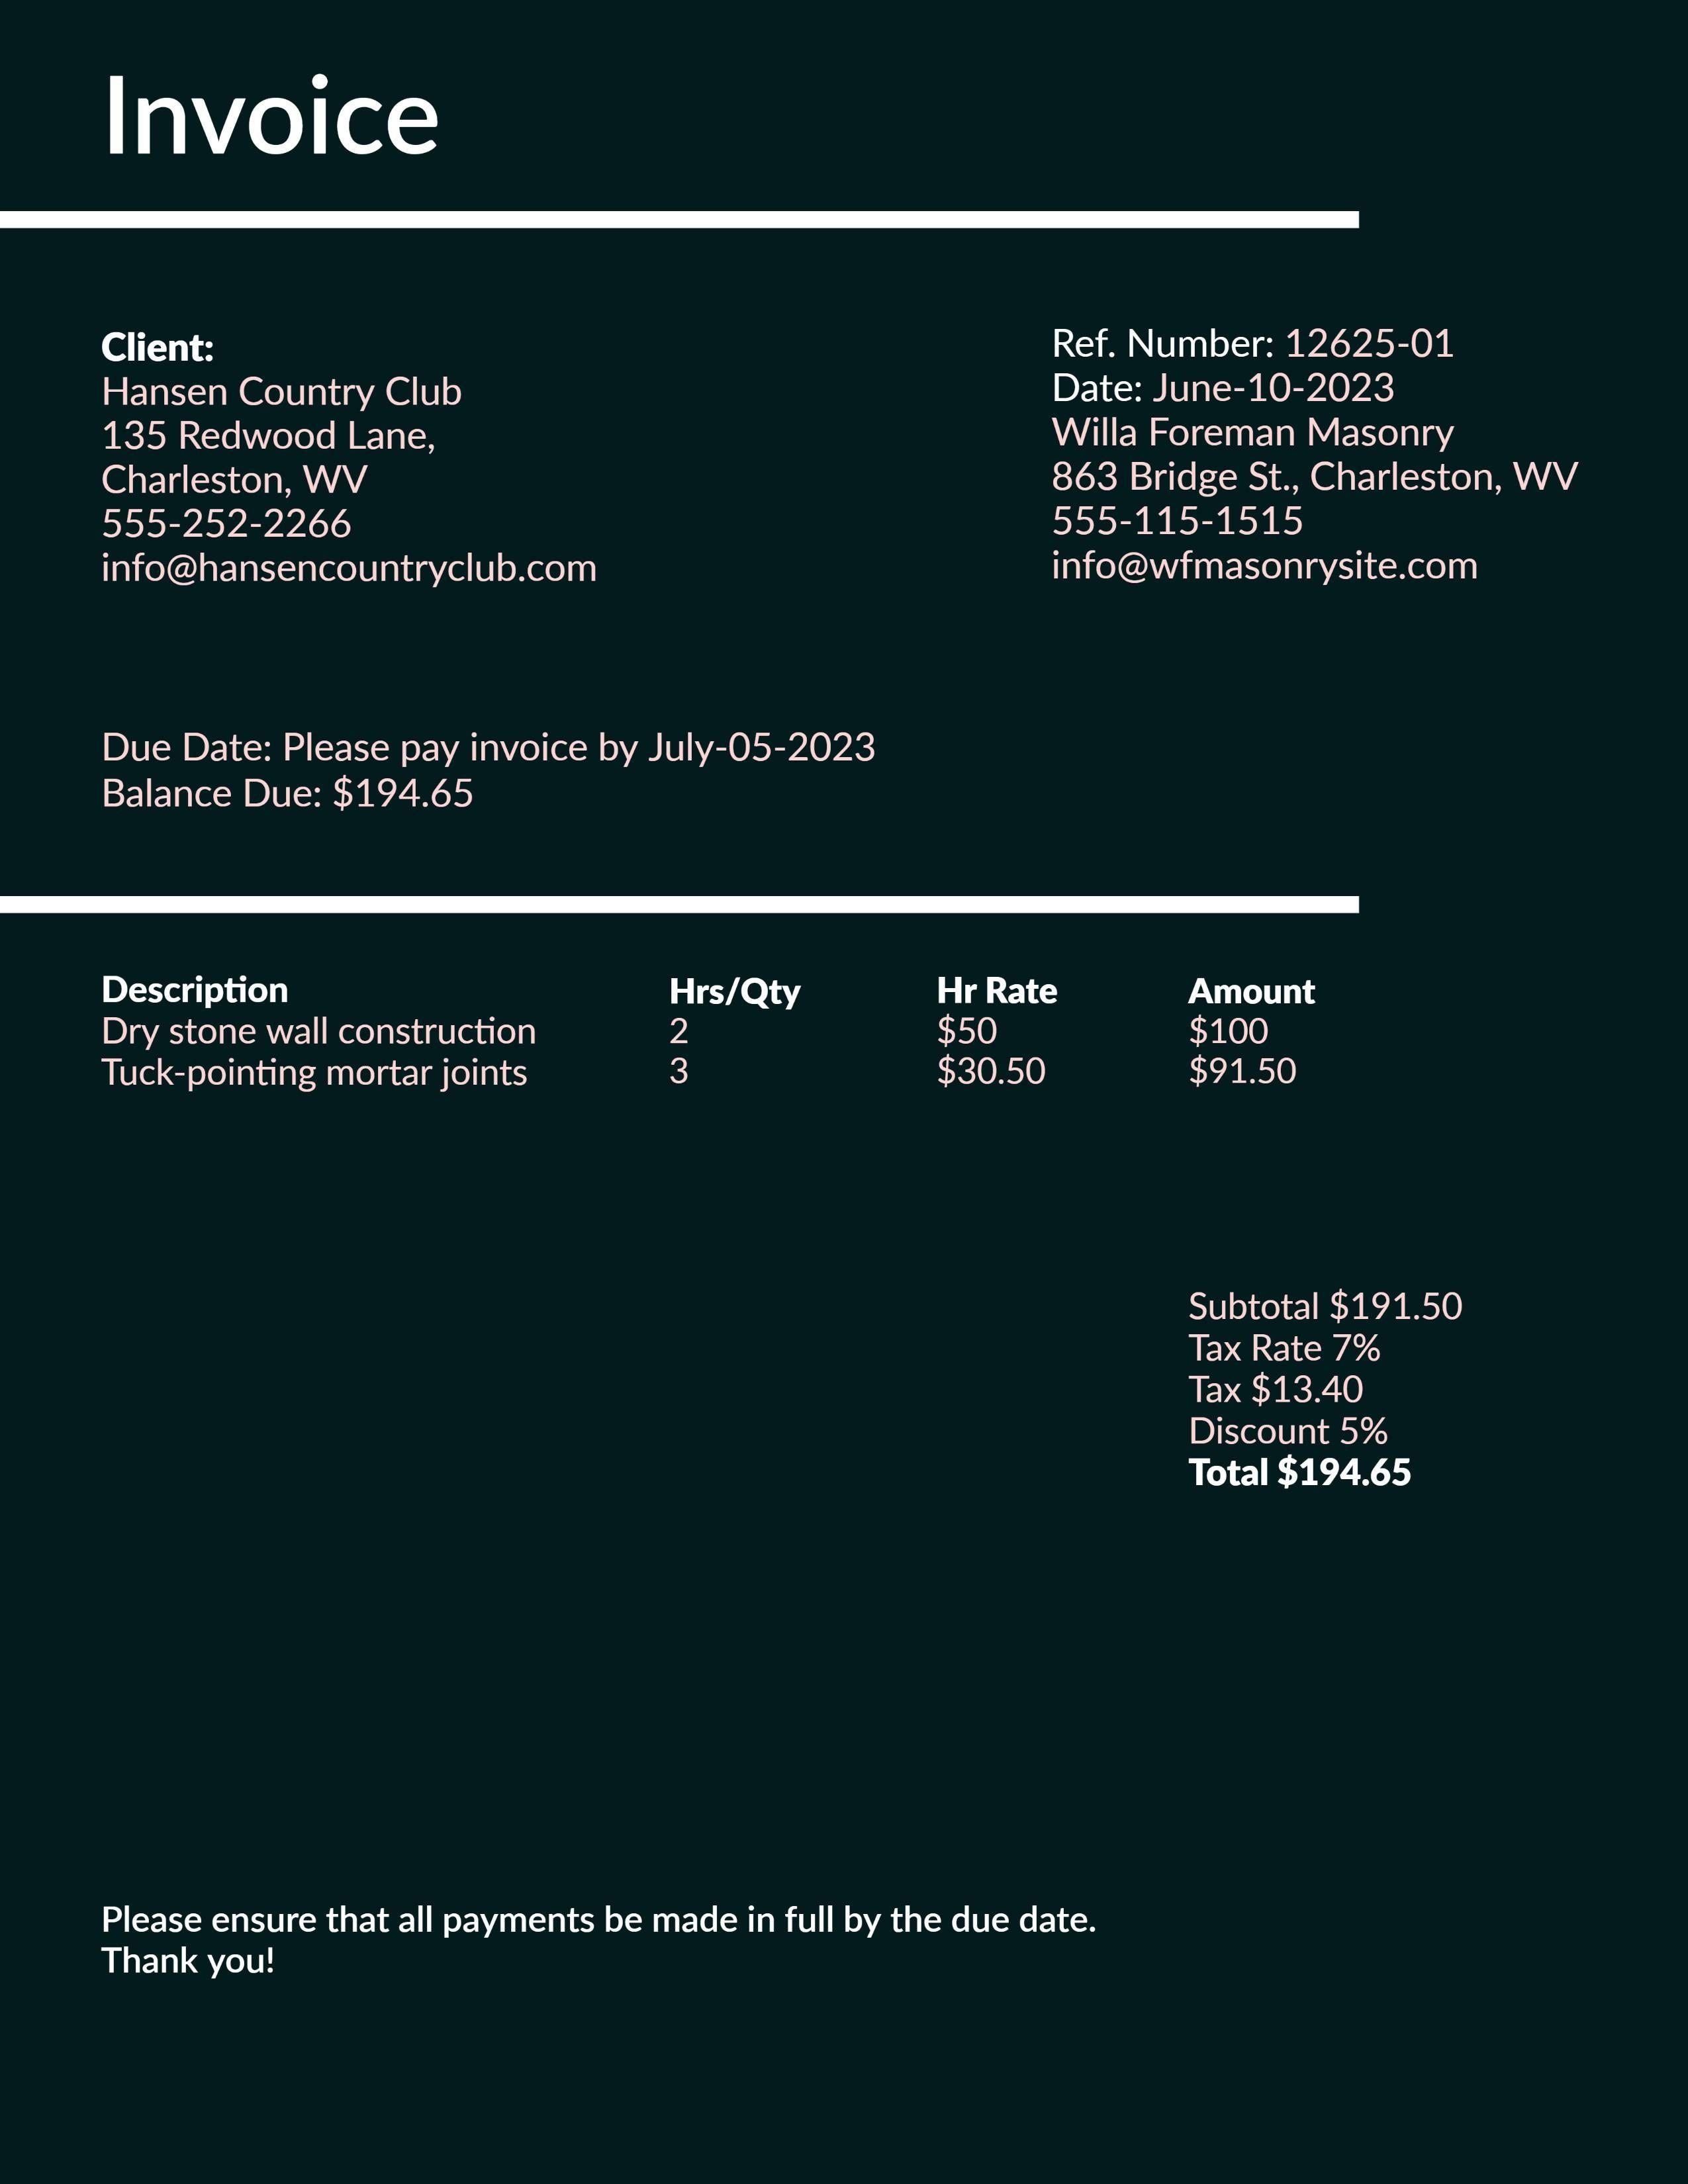ROI: (87, 927, 1337, 1129), (89, 321, 606, 589), (89, 706, 883, 837), (1039, 413, 1585, 603), (1176, 1257, 1482, 1516), (1039, 298, 1528, 408)
